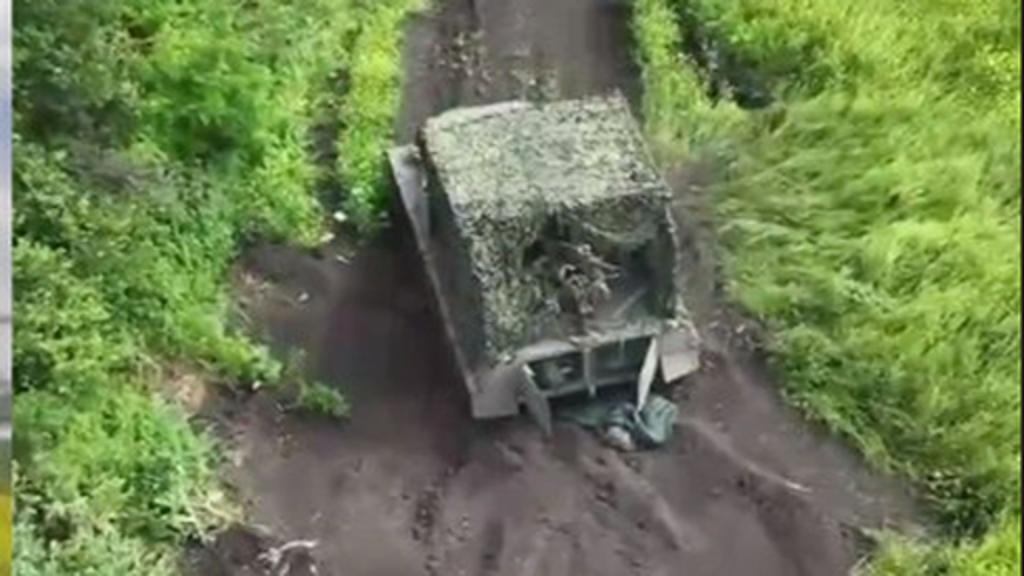APC-IFV: (364, 72, 720, 436)
